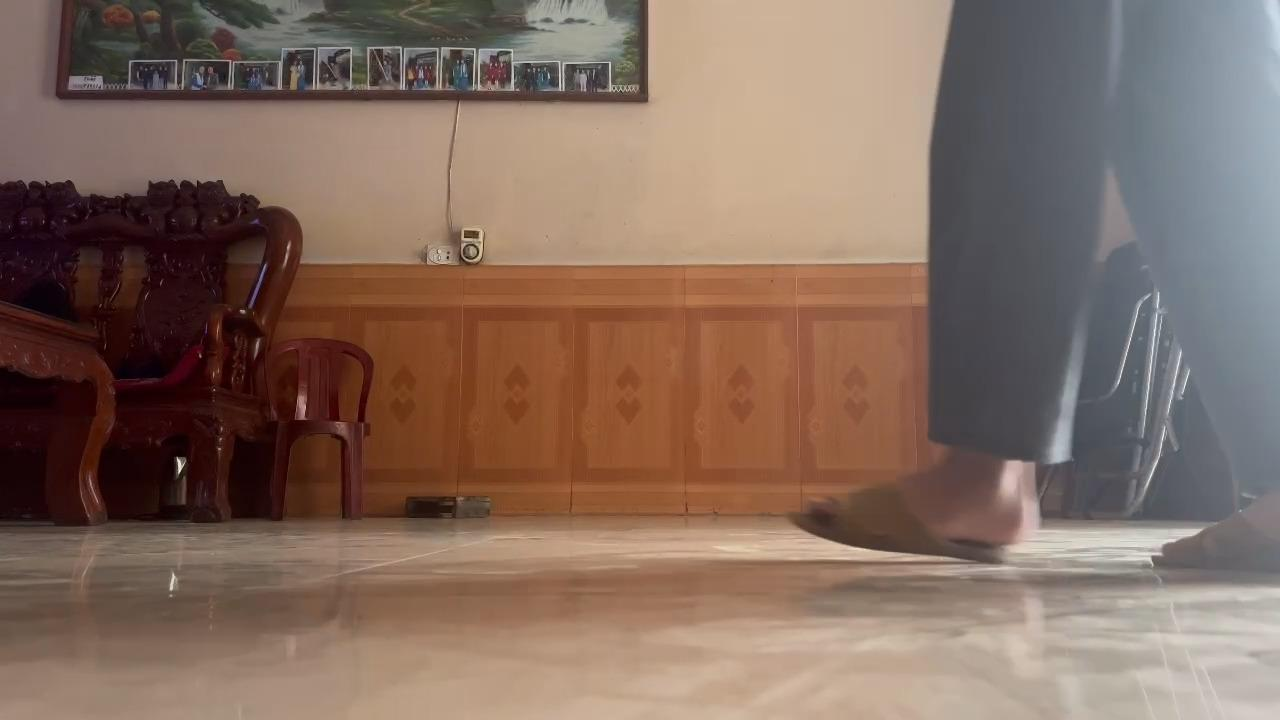no-boot: (780, 462, 1045, 570), (1143, 495, 1280, 583)
